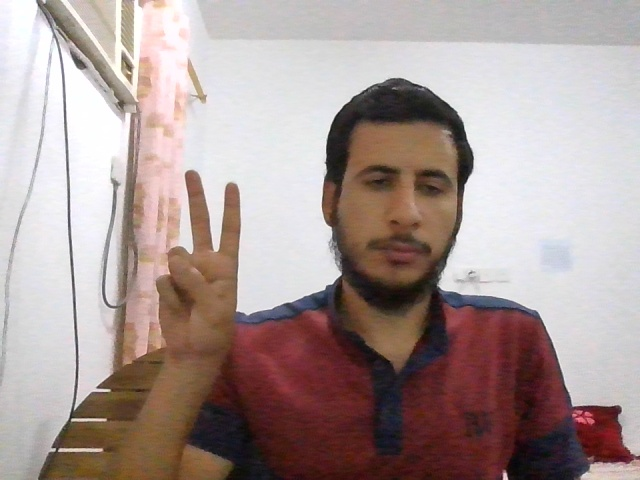Two: (155, 170, 242, 363)
